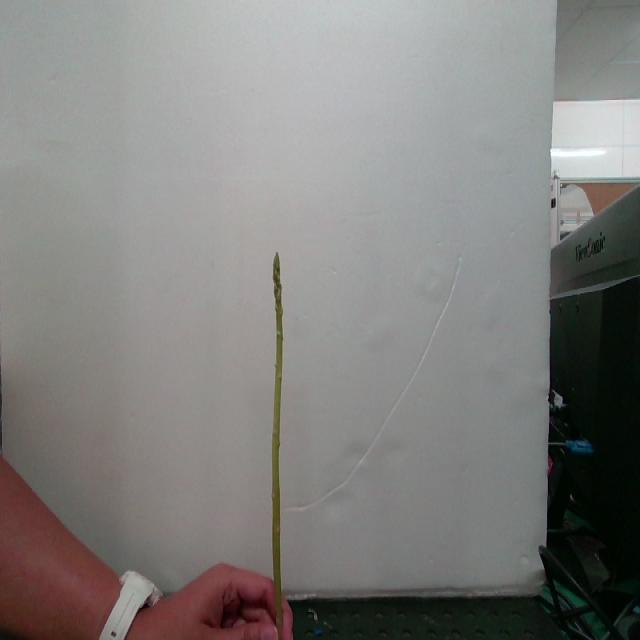aspargus: (272, 255, 289, 640)
